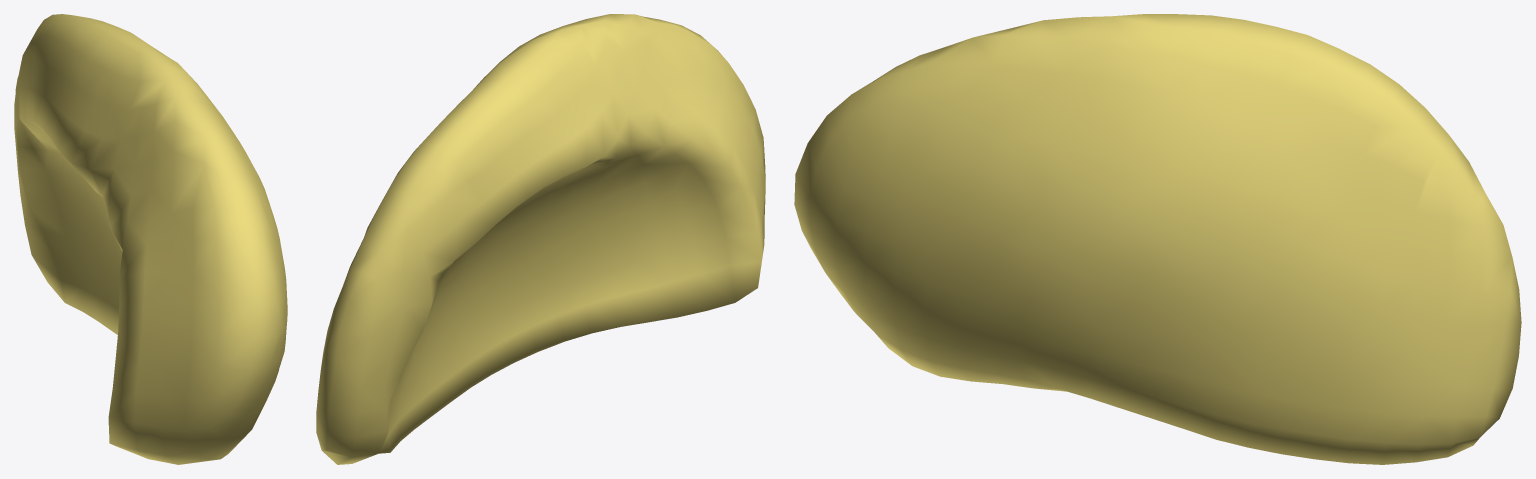
Rendered from putamen-l.glb.
3 renders of one model, left to right at view 1: azimuth 30°, elevation 25°; view 2: azimuth 150°, elevation 25°; view 3: azimuth 270°, elevation 25°, orthographic. The views are drawn at different scales.
Visible parts, largest first — view 1: Putamen.l; view 2: Putamen.l; view 3: Putamen.l.
Boxes of the visible parts, x1,y1,x2,y2 form: Putamen.l: (14,14,287,464); Putamen.l: (316,14,765,464); Putamen.l: (794,14,1521,464).
Size of the model in its own units: 0.0177 by 0.0252 by 0.0416.
